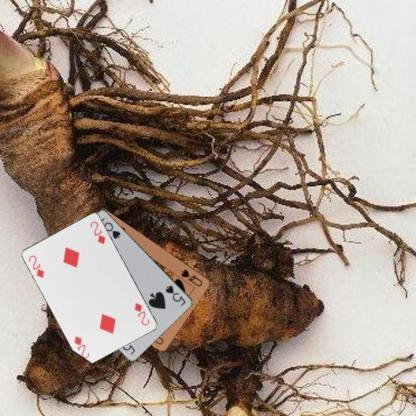2d: (26, 252, 46, 280), (132, 300, 151, 327)
5s: (162, 283, 188, 308)
Qs: (178, 267, 204, 288)
